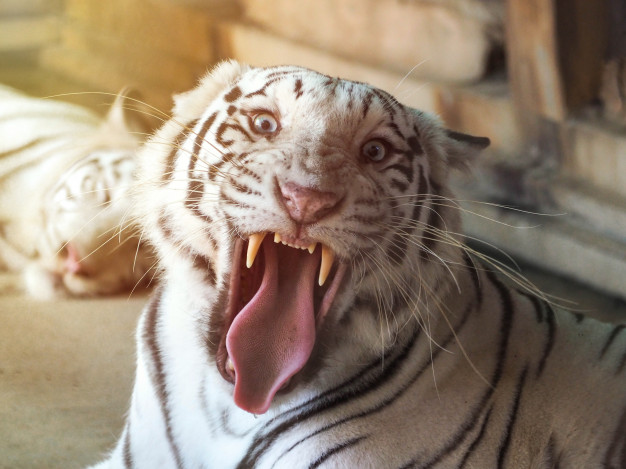Tigrew: (158, 62, 560, 457), (1, 76, 146, 302)
